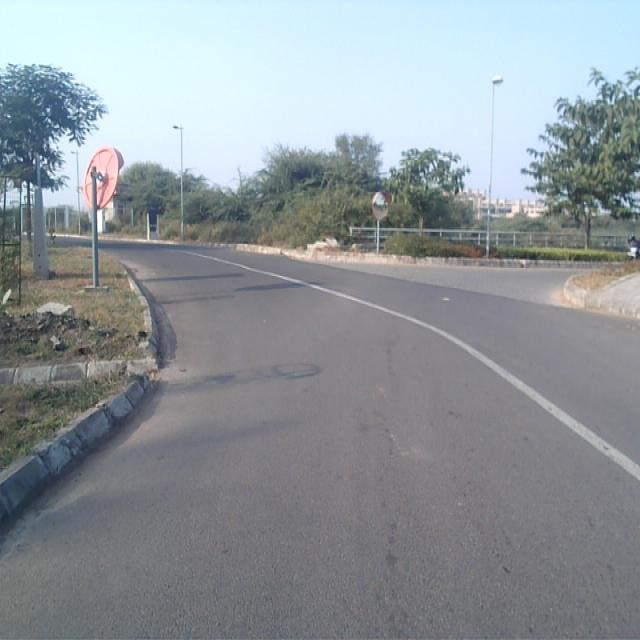lane: (0, 250, 640, 640)
